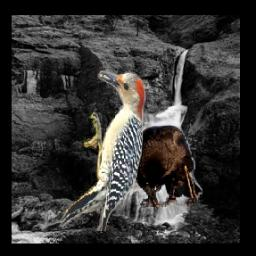Crow: (128, 123, 203, 207)
Woodpecker: (57, 65, 156, 232)
